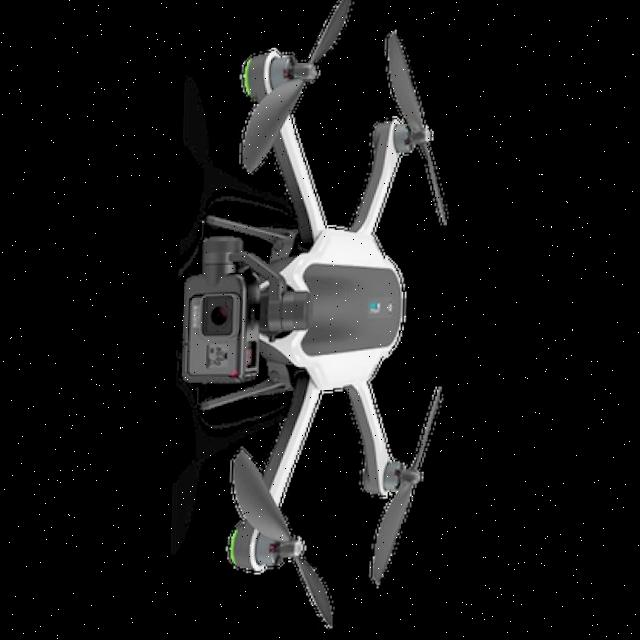drone: (196, 0, 466, 613)
